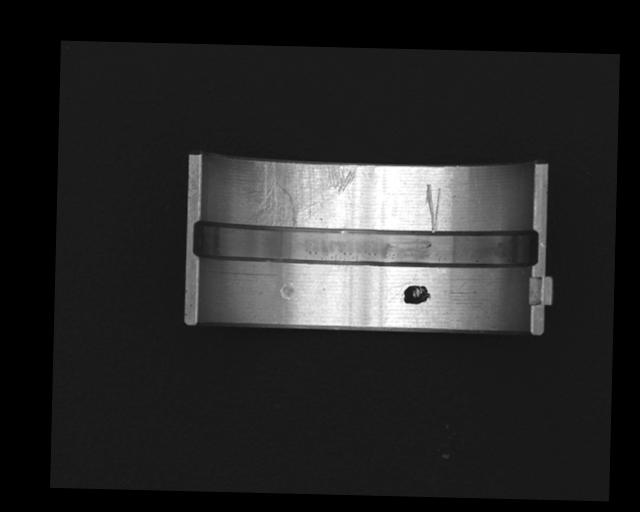blot: (402, 284, 431, 304)
bruise: (280, 280, 295, 300)
gap: (192, 221, 539, 268)
nick: (423, 183, 442, 233)
scratch: (245, 158, 356, 230)
